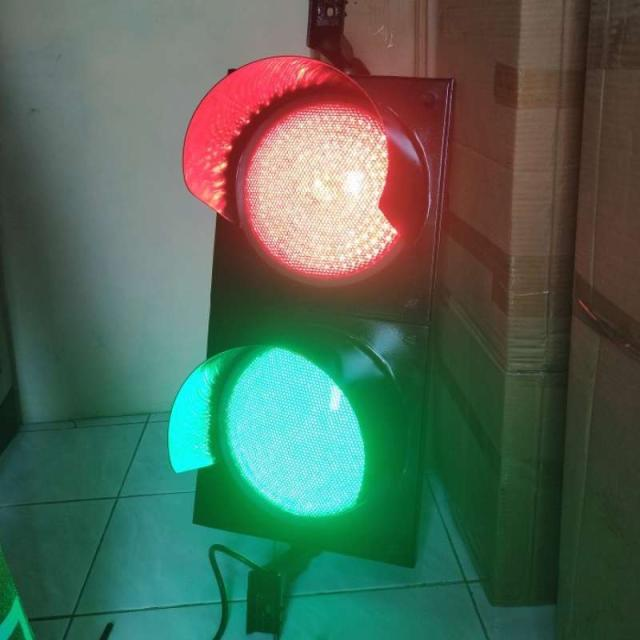Hijau: (222, 345, 368, 518)
Merah: (239, 101, 413, 285)
